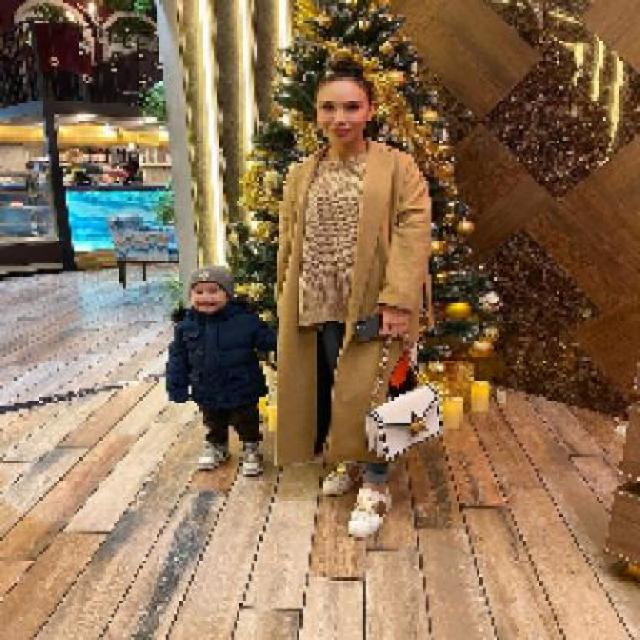child: (164, 265, 276, 478)
